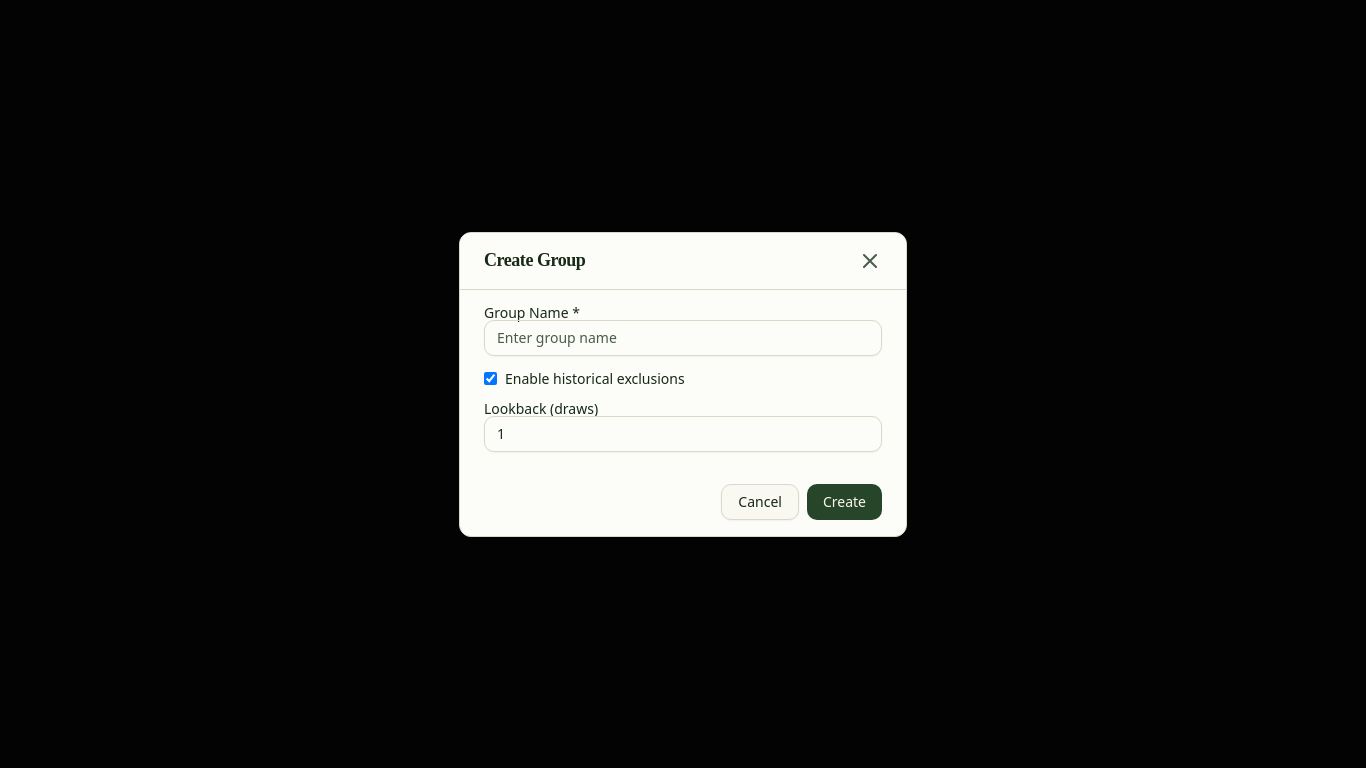
CreateGroupDialog › validates required name field
Click the field labelled "Group Name *": (683, 338) [484,320,882,356]
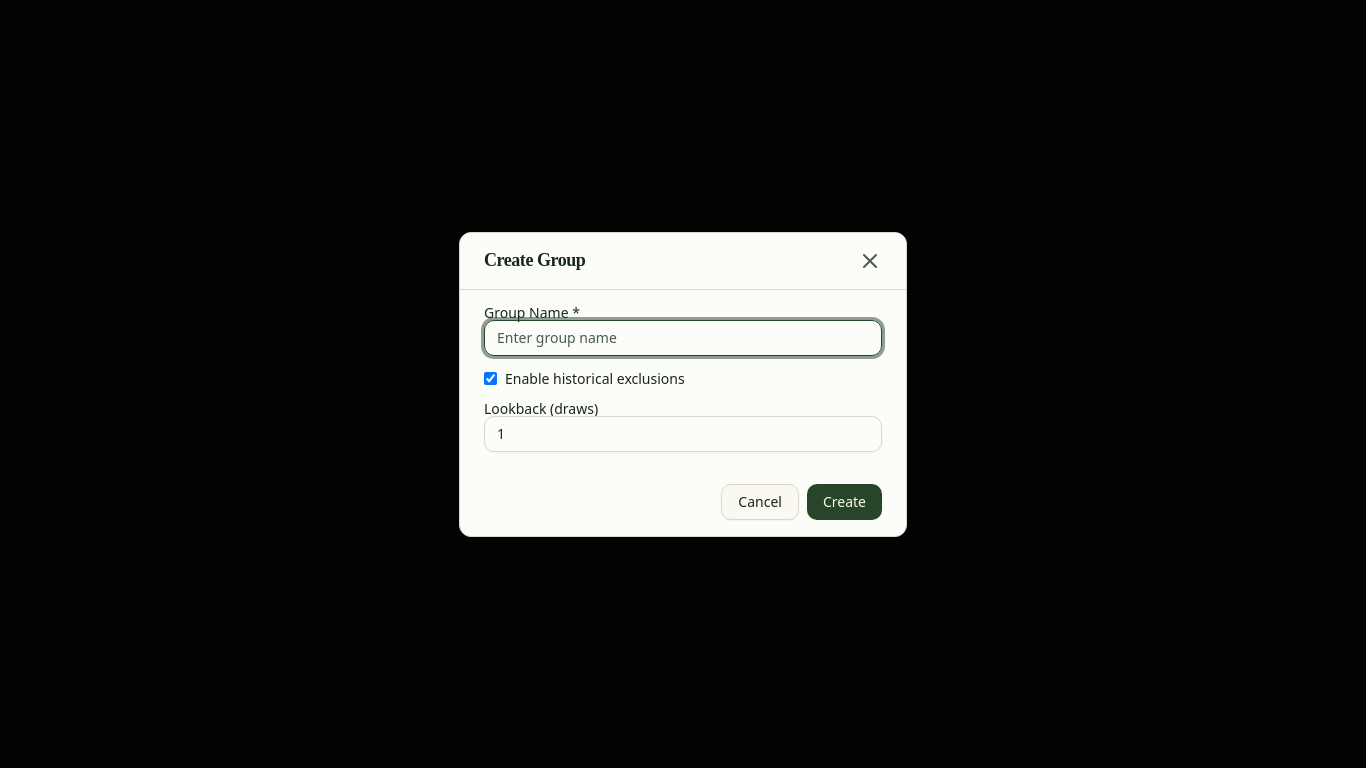
Click the button "Create": (844, 502) [807,484,882,520]
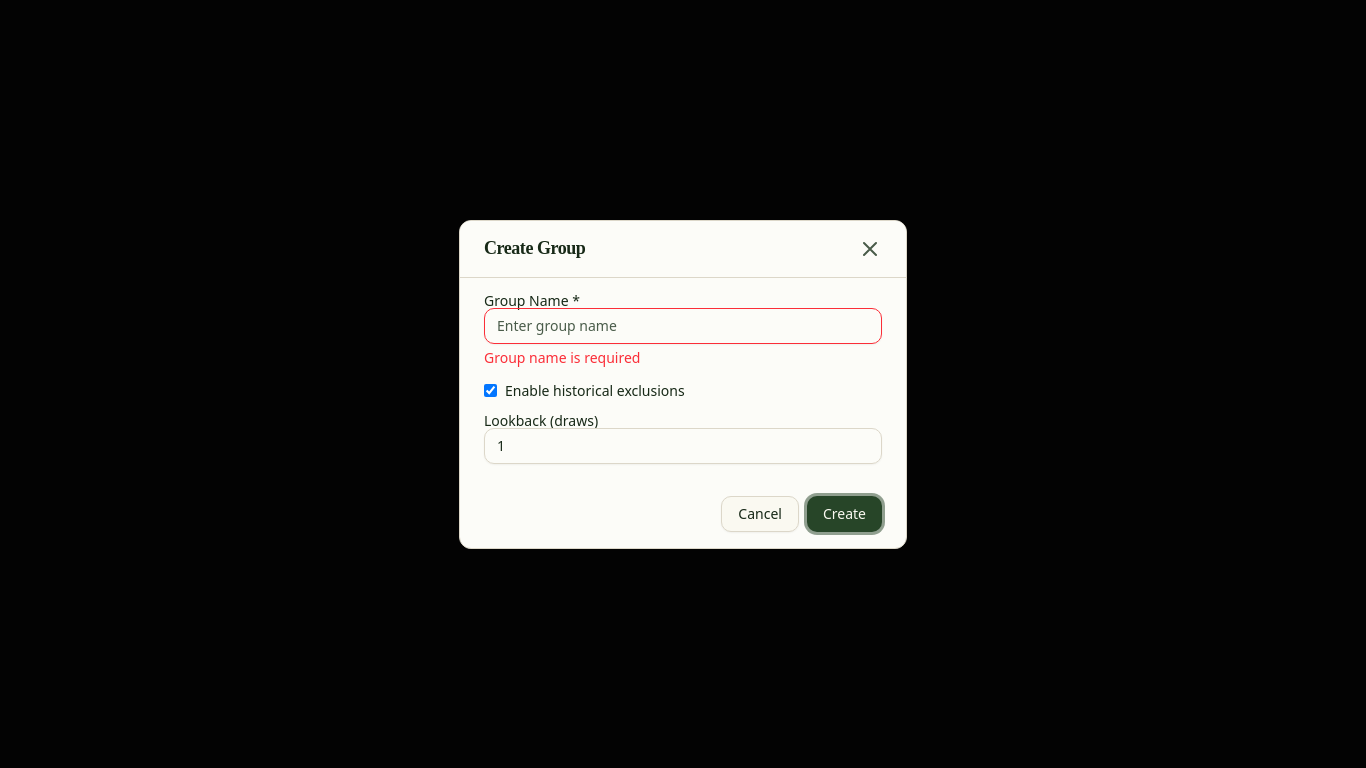
Check: the text "Group name is required" is shown, box [484,348,640,366]
